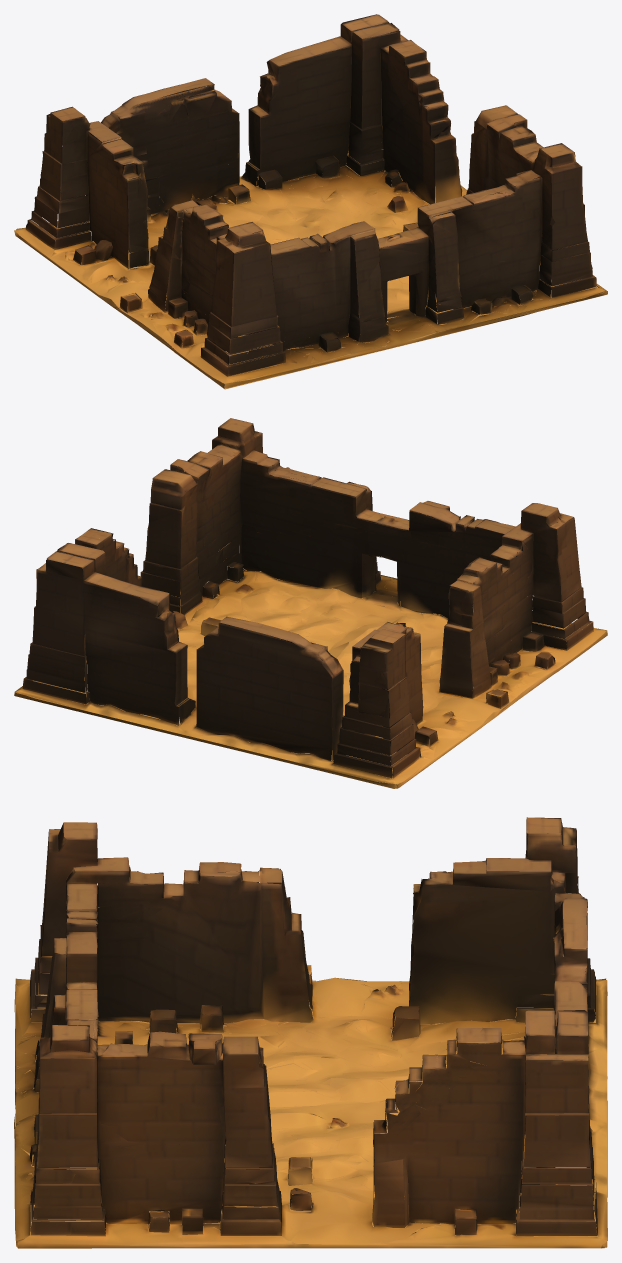
Rendered from square_desert_relic.glb.
3 views of the same model, one above another, from view 1: azimuth 30°, elevation 25°; view 2: azimuth 150°, elevation 25°; view 3: azimuth 270°, elevation 25° (orthographic). The views are drawn at different scales.
Visible parts, largest first — view 1: node_0; view 2: node_0; view 3: node_0.
Part boxes in pixels (bbox=[...]): node_0: bbox=[14, 14, 607, 389]; node_0: bbox=[14, 418, 607, 788]; node_0: bbox=[14, 817, 607, 1248].
Size of the model in its own units: 0.8466 by 0.2935 by 0.8057.
1 material, 1 textured.
